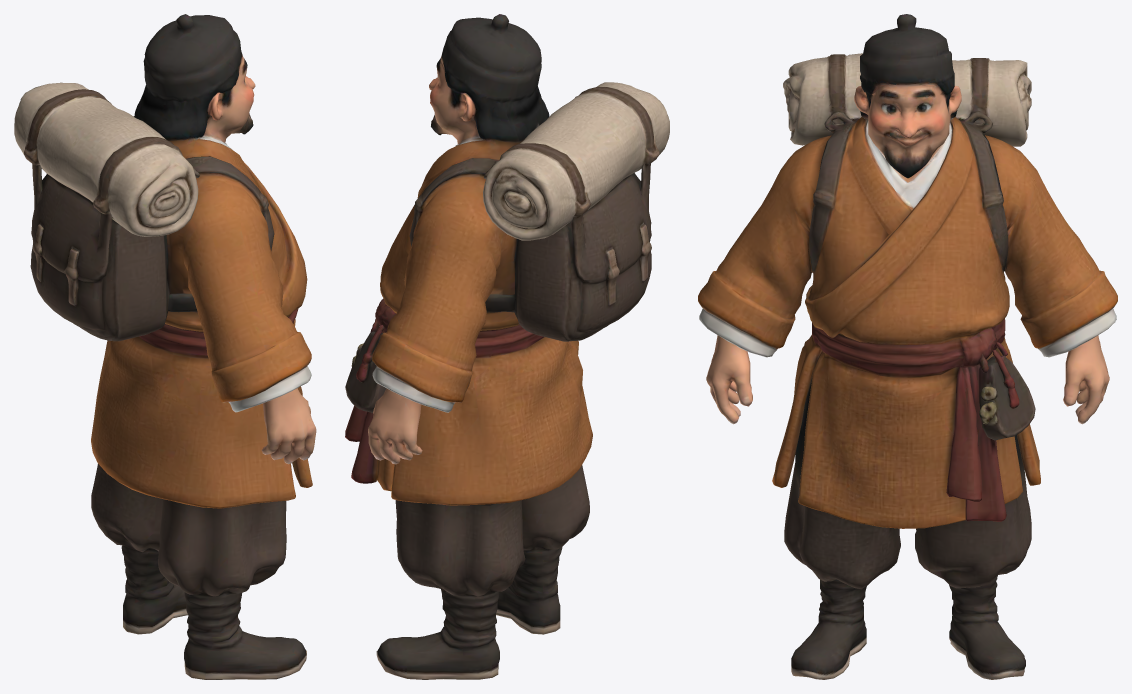
The model's file is linzhiyang.glb.
3 renders of one model, left to right at view 1: azimuth 30°, elevation 25°; view 2: azimuth 150°, elevation 25°; view 3: azimuth 270°, elevation 25°, orthographic.
Parts seen in each view (by area): view 1: tripo_node_8b26681e-3a4e-4009-978a-d3112ec75ac7; view 2: tripo_node_8b26681e-3a4e-4009-978a-d3112ec75ac7; view 3: tripo_node_8b26681e-3a4e-4009-978a-d3112ec75ac7.
Boxes of the visible parts, x1,y1,x2,y2 form: tripo_node_8b26681e-3a4e-4009-978a-d3112ec75ac7: (14, 14, 316, 679); tripo_node_8b26681e-3a4e-4009-978a-d3112ec75ac7: (345, 14, 669, 679); tripo_node_8b26681e-3a4e-4009-978a-d3112ec75ac7: (698, 14, 1117, 679).
Size of the model in its own units: 0.4246 by 1 by 0.5988.
1 material, 1 textured.
